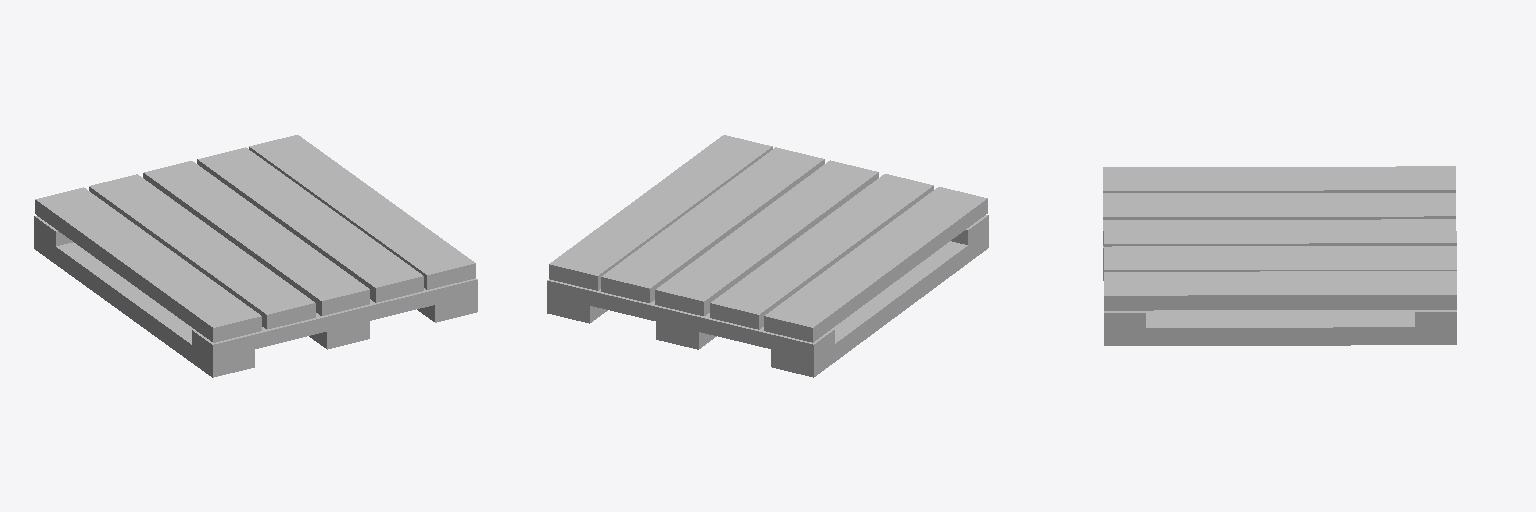
File: Wooden Pallet.obj
The picture shows the model from 3 angles: view 1: azimuth 30°, elevation 25°; view 2: azimuth 150°, elevation 25°; view 3: azimuth 270°, elevation 25°; orthographic projection.
Visible parts, largest first — view 1: Cube.032, Cube.016; view 2: Cube.032, Cube.016; view 3: Cube.032, Cube.016.
Part boxes in pixels (x1,y1,x2,y2): Cube.032: (35, 135, 475, 342); Cube.016: (34, 216, 477, 377); Cube.032: (549, 135, 987, 342); Cube.016: (547, 215, 988, 377); Cube.032: (1103, 166, 1456, 310); Cube.016: (1103, 246, 1456, 345).
Size of the model in its own units: 154 by 27.23 by 177.